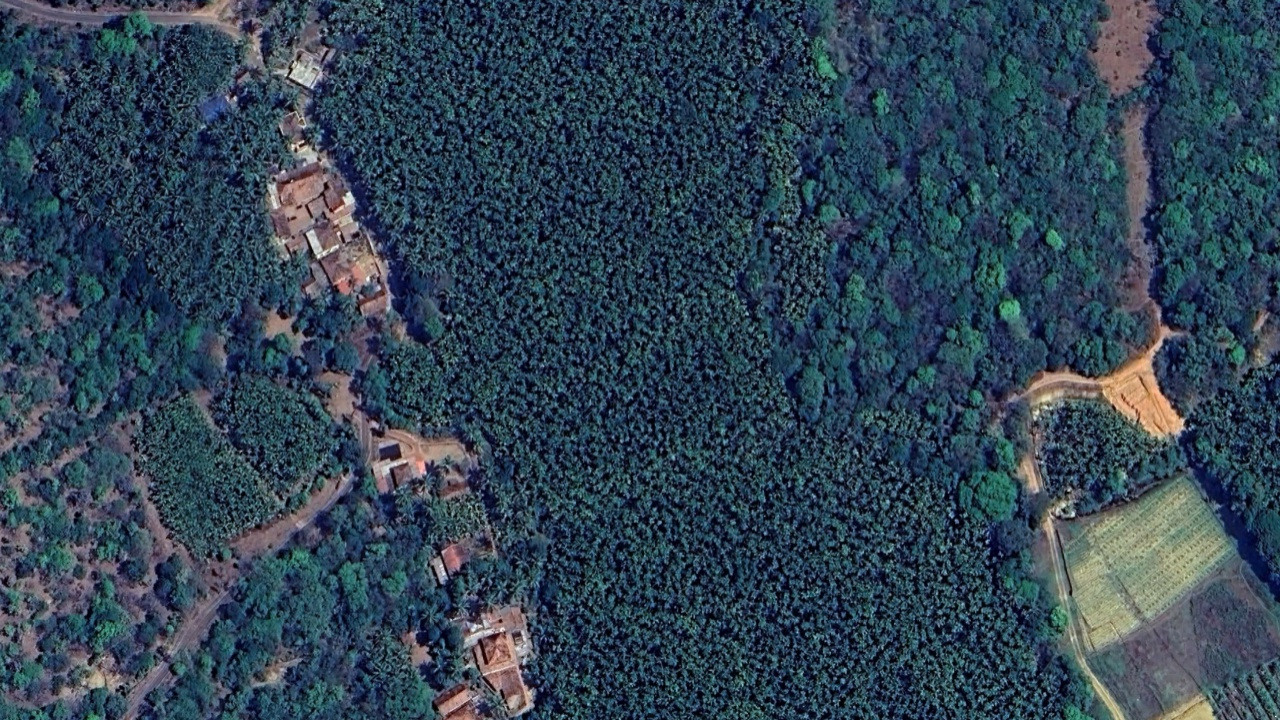arecanut: (324, 1, 1066, 719), (147, 356, 326, 552), (1041, 388, 1178, 485)
